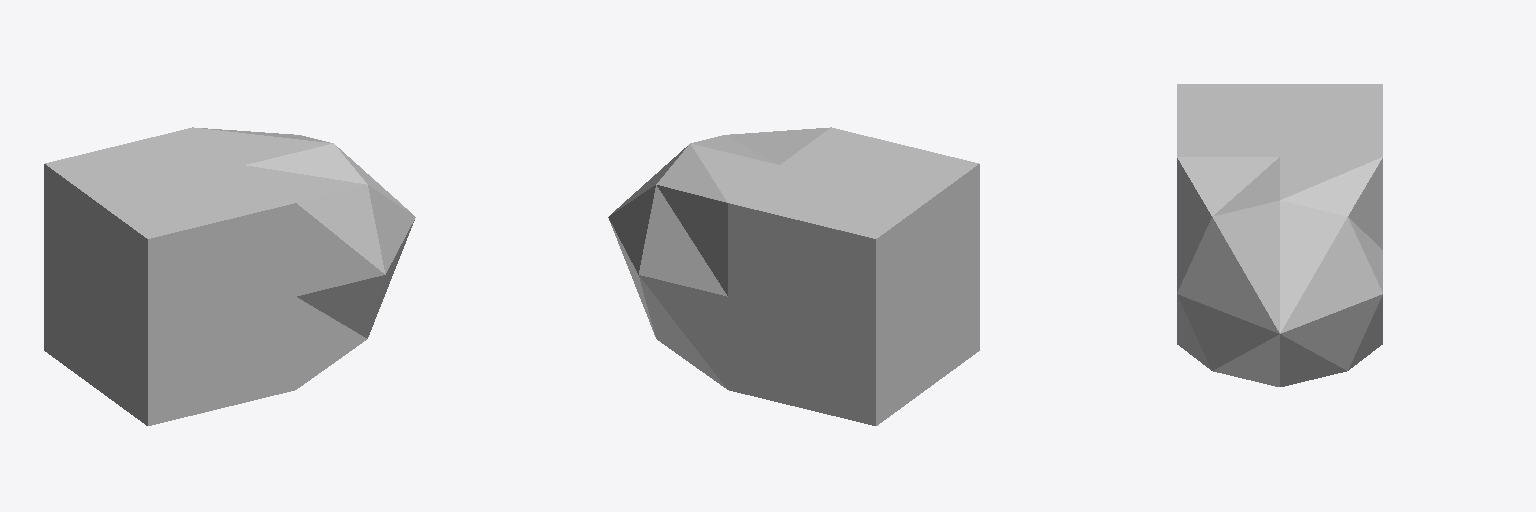
File: cannon.obj
3 renders of one model, left to right at view 1: azimuth 30°, elevation 25°; view 2: azimuth 150°, elevation 25°; view 3: azimuth 270°, elevation 25°, orthographic.
Bounding box in the file's own units: 358 × 200 × 200.